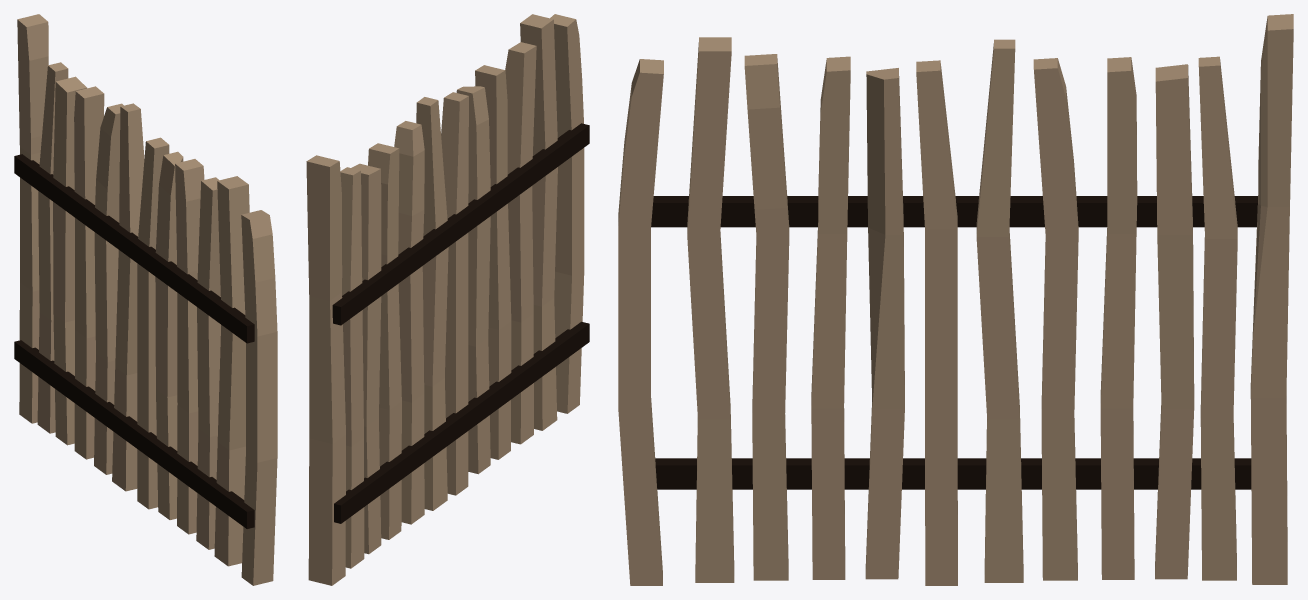
File: Fence_New_3_Black.fbx
3 views of the same model, side by side, from view 1: azimuth 30°, elevation 25°; view 2: azimuth 150°, elevation 25°; view 3: azimuth 270°, elevation 25° (orthographic). The views are drawn at different scales.
Parts seen in each view (by area): view 1: Cube.041, Cube.044, Cube.057, Cube.051, Cube.054, Cube.047, Cube.053, Cube.055, Cube.045, Cube.048, Cube.058, Cube.042 (+2 smaller); view 2: Cube.057, Cube.041, Cube.045, Cube.053, Cube.044, Cube.049, Cube.051, Cube.048, Cube.047, Cube.054, Cube.058, Cube.042 (+2 smaller); view 3: Cube.057, Cube.044, Cube.045, Cube.051, Cube.055, Cube.053, Cube.048, Cube.041, Cube.056, Cube.049, Cube.047, Cube.054 (+2 smaller).
Part boxes in pixels (<box>): Cube.041: <box>241,210,277,585</box>; Cube.044: <box>214,176,249,566</box>; Cube.057: <box>17,14,48,423</box>; Cube.051: <box>112,103,144,491</box>; Cube.054: <box>74,86,104,459</box>; Cube.047: <box>175,159,204,534</box>; Cube.053: <box>94,103,123,474</box>; Cube.055: <box>53,76,86,445</box>; Cube.045: <box>196,177,220,549</box>; Cube.048: <box>155,151,183,519</box>; Cube.058: <box>14,154,254,343</box>; Cube.042: <box>14,340,254,528</box>; Cube.057: <box>306,155,345,585</box>; Cube.041: <box>550,14,584,413</box>; Cube.045: <box>505,42,536,444</box>; Cube.053: <box>394,121,424,524</box>; Cube.044: <box>520,14,557,430</box>; Cube.049: <box>441,92,468,495</box>; Cube.051: <box>416,97,448,510</box>; Cube.048: <box>456,86,490,474</box>; Cube.047: <box>475,65,511,459</box>; Cube.054: <box>368,143,401,539</box>; Cube.058: <box>332,123,589,325</box>; Cube.042: <box>334,321,589,523</box>; Cube.057: <box>1250,14,1293,584</box>; Cube.044: <box>687,37,734,582</box>; Cube.045: <box>744,54,789,580</box>; Cube.051: <box>976,39,1023,582</box>; Cube.055: <box>1155,64,1194,579</box>; Cube.053: <box>1033,58,1078,580</box>; Cube.048: <box>865,68,904,579</box>; Cube.041: <box>618,59,663,585</box>; Cube.056: <box>1198,56,1237,580</box>; Cube.049: <box>916,60,957,585</box>; Cube.047: <box>811,56,850,579</box>; Cube.054: <box>1100,57,1137,579</box>.
Size of the model in its own units: 14.48 by 185 by 203.
